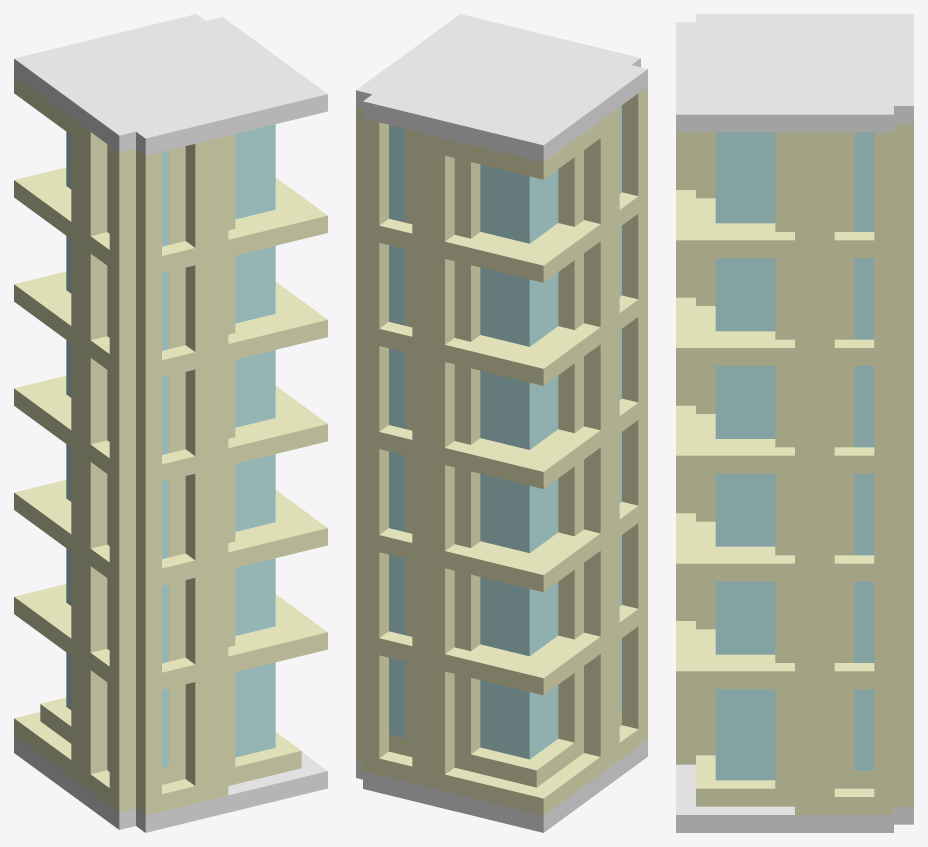
File: Med Bay Corner Collum 1.obj
The picture shows the model from 3 angles, left to right: view 1: azimuth 30°, elevation 25°; view 2: azimuth 150°, elevation 25°; view 3: azimuth 270°, elevation 25°; orthographic projection. The views are drawn at different scales.
Bounding box in the file's own units: 12 × 40 × 12.
Materials: 1 (1 with a texture image).
